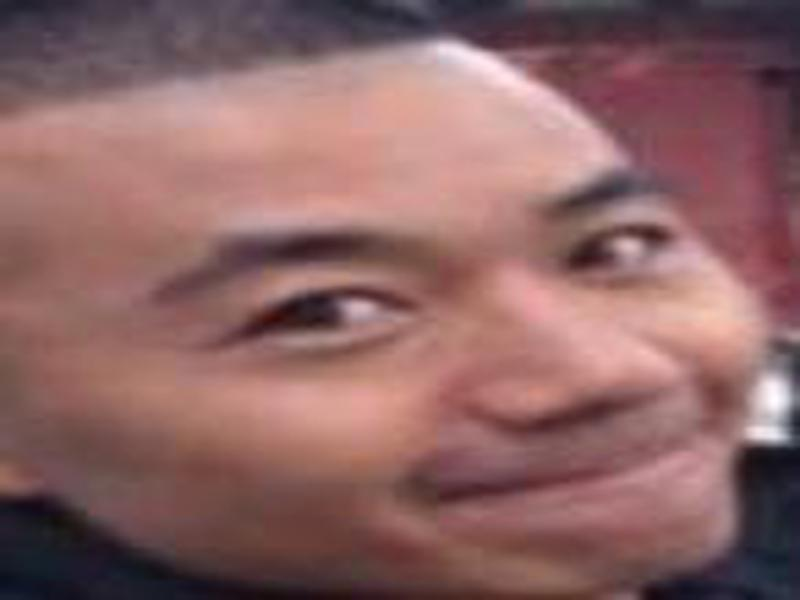without_mask: (6, 53, 749, 600)
